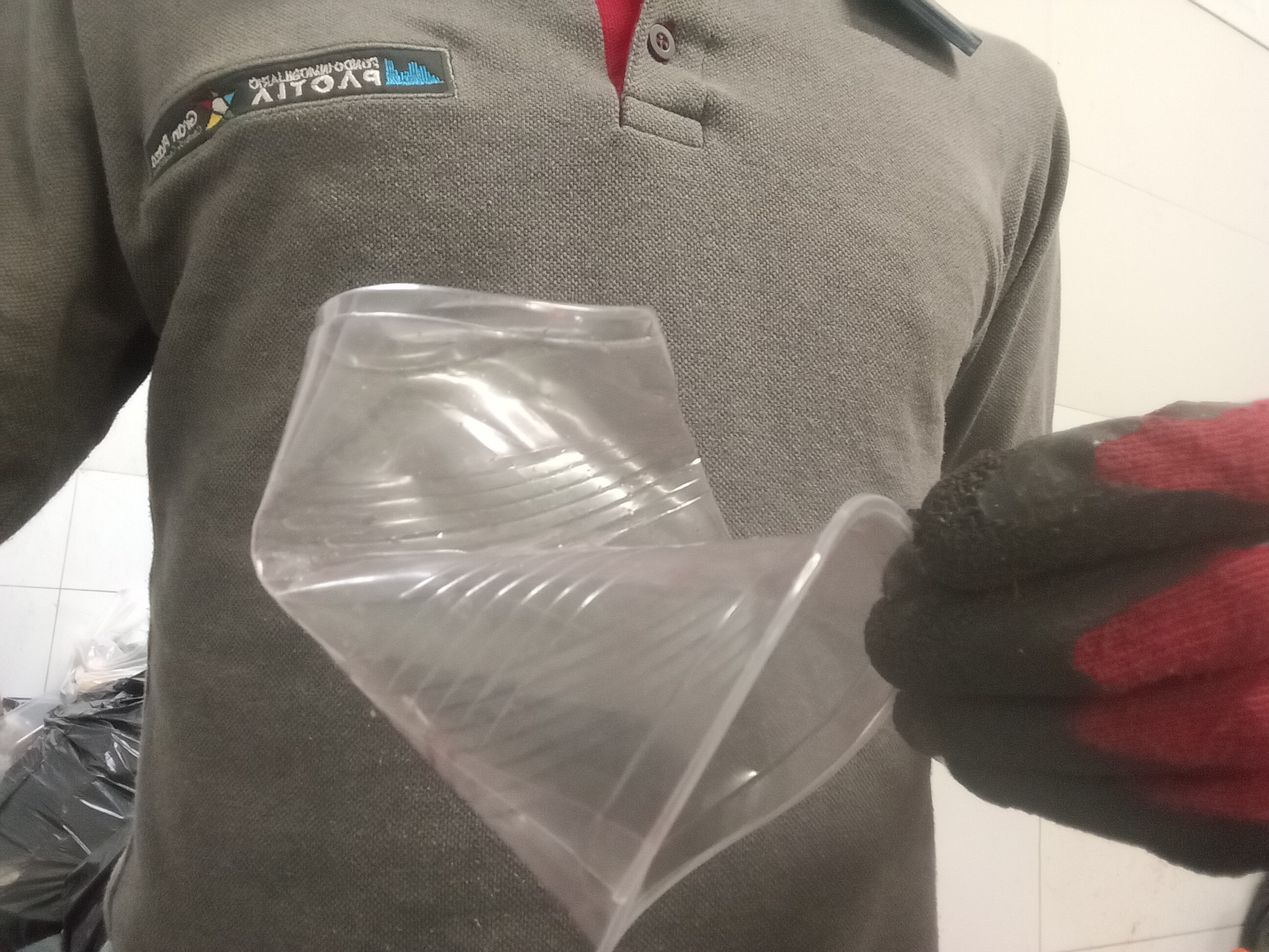Plastico: (248, 284, 913, 952)
